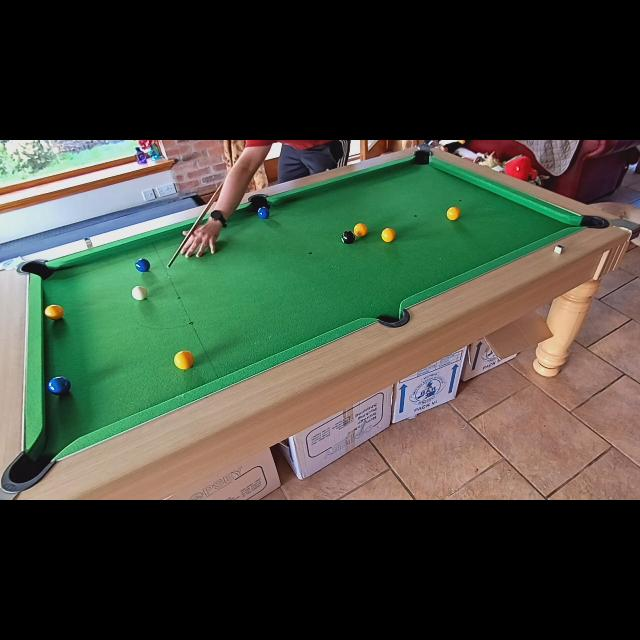Ball: (48, 376, 70, 396), (173, 350, 194, 370), (45, 304, 65, 320), (131, 286, 147, 300), (380, 228, 396, 242), (447, 206, 461, 222), (353, 223, 367, 237), (136, 258, 150, 272), (341, 230, 355, 244), (256, 207, 270, 220)
